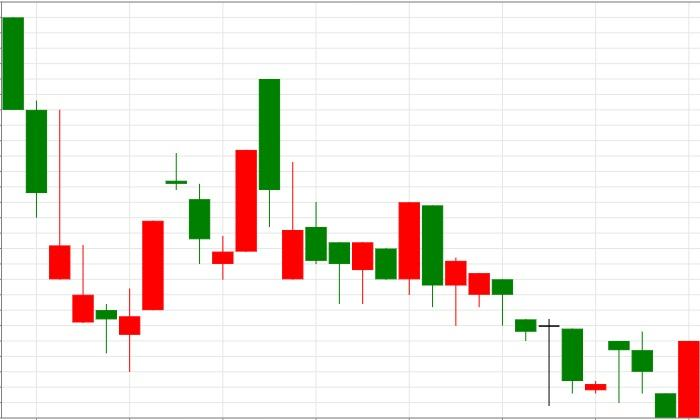inverse_hammer_rise: (2, 16, 94, 322)
